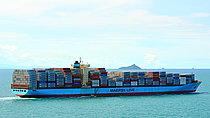Ship: (8, 58, 202, 102)
